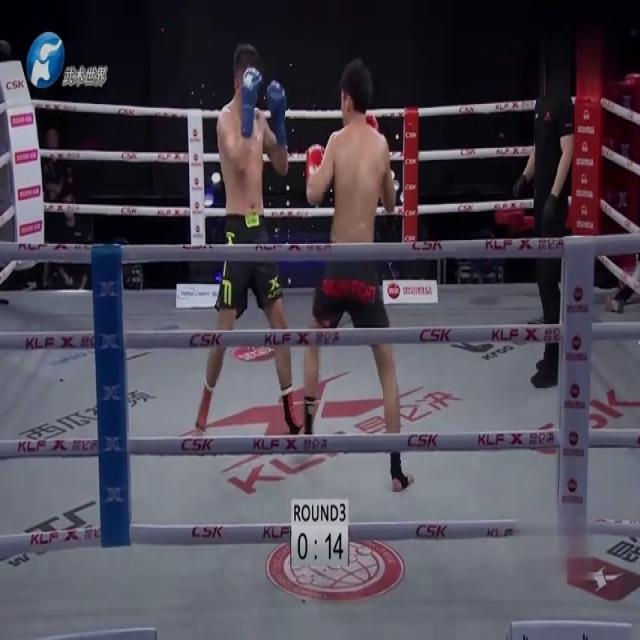fight: (192, 37, 411, 495)
non-fight: (514, 59, 576, 389)
